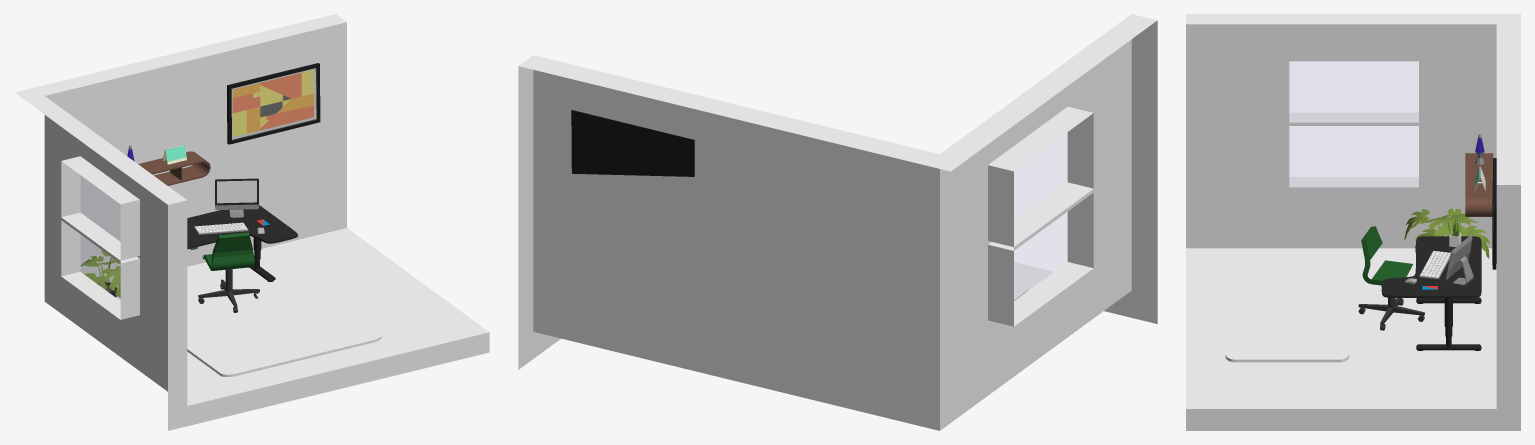
Rendered from my-room.glb.
3 views of the same model, side by side, from view 1: azimuth 30°, elevation 25°; view 2: azimuth 150°, elevation 25°; view 3: azimuth 270°, elevation 25° (orthographic). The views are drawn at different scales.
Parts seen in each view (by area): view 1: Plane, WawaRug, Node, Desk, Chair, iMac, SM_Shelf:SM_Shelf1, Houseplant_7, keyboard; view 2: Plane, Node; view 3: Plane, WawaRug, Desk, Chair, SM_Shelf:SM_Shelf1, Houseplant_7, iMac, keyboard, Node.
Part boxes in pixels (x1,y1,x2,y2): Plane: (14, 14, 489, 430); WawaRug: (187, 297, 381, 376); Node: (227, 63, 320, 144); Desk: (187, 205, 297, 281); Chair: (198, 232, 259, 312); iMac: (215, 178, 259, 217); SM_Shelf:SM_Shelf1: (138, 151, 210, 185); Houseplant_7: (80, 250, 120, 297); keyboard: (194, 222, 248, 234); Plane: (518, 14, 1157, 430); Node: (571, 110, 694, 176); Plane: (1186, 14, 1520, 430); WawaRug: (1225, 274, 1349, 362); Desk: (1381, 236, 1481, 350); Chair: (1358, 226, 1424, 330); SM_Shelf:SM_Shelf1: (1465, 153, 1493, 216); Houseplant_7: (1404, 208, 1490, 258); iMac: (1445, 234, 1473, 285); keyboard: (1419, 251, 1450, 279); Node: (1492, 158, 1496, 269).
Bounding box in the file's own units: 5.72 × 3.84 × 4.74.
Materials: 46 (1 with a texture image).
